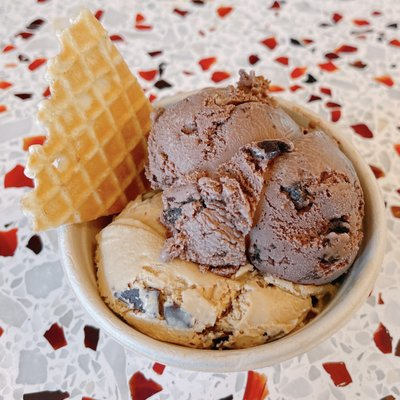sushi: (27, 67, 392, 379)
